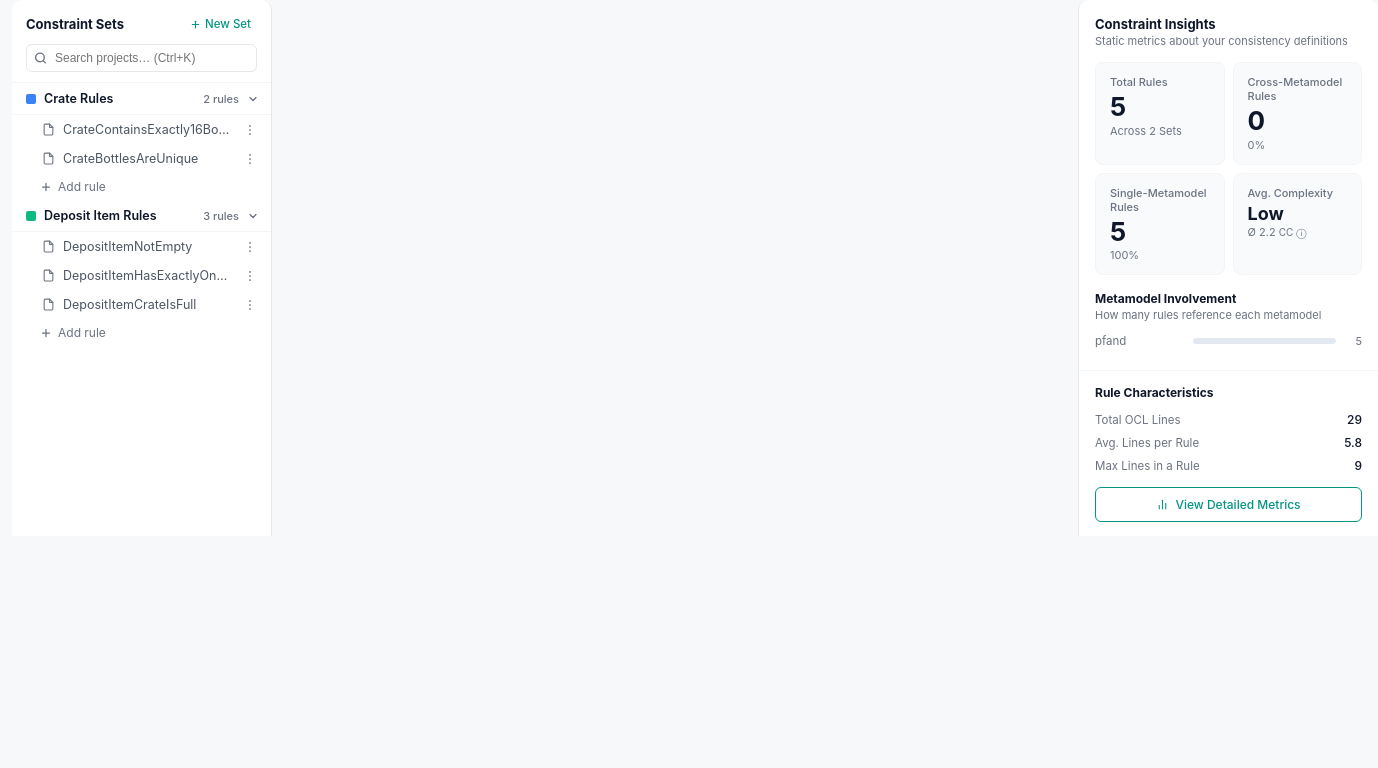
it: ConstraintsView › editor panel close › closes editor panel when × button is clicked
What coordinates should you click on to do the following:
click the button "CrateContainsExactly16Bottles"
I would click on:
 (142, 130)
Its box is [14,115,271,144].
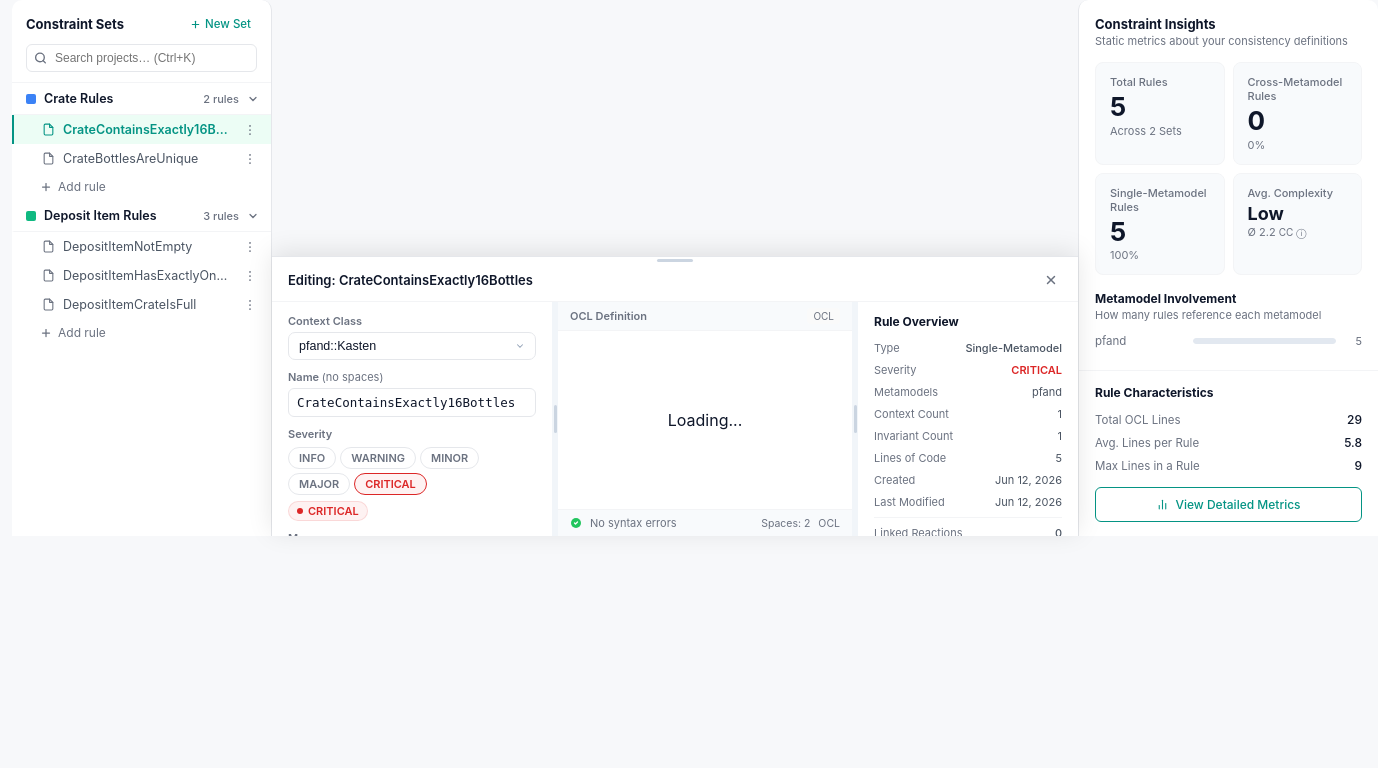
Expected: the text "Editing: CrateContainsExactly16Bottles" is shown, [288,272,533,288]
What coordinates should you click on to do the following:
click the button without text in the row of "Editing:"
I would click on:
 (1051, 280)
Its box is [1040,269,1062,291].
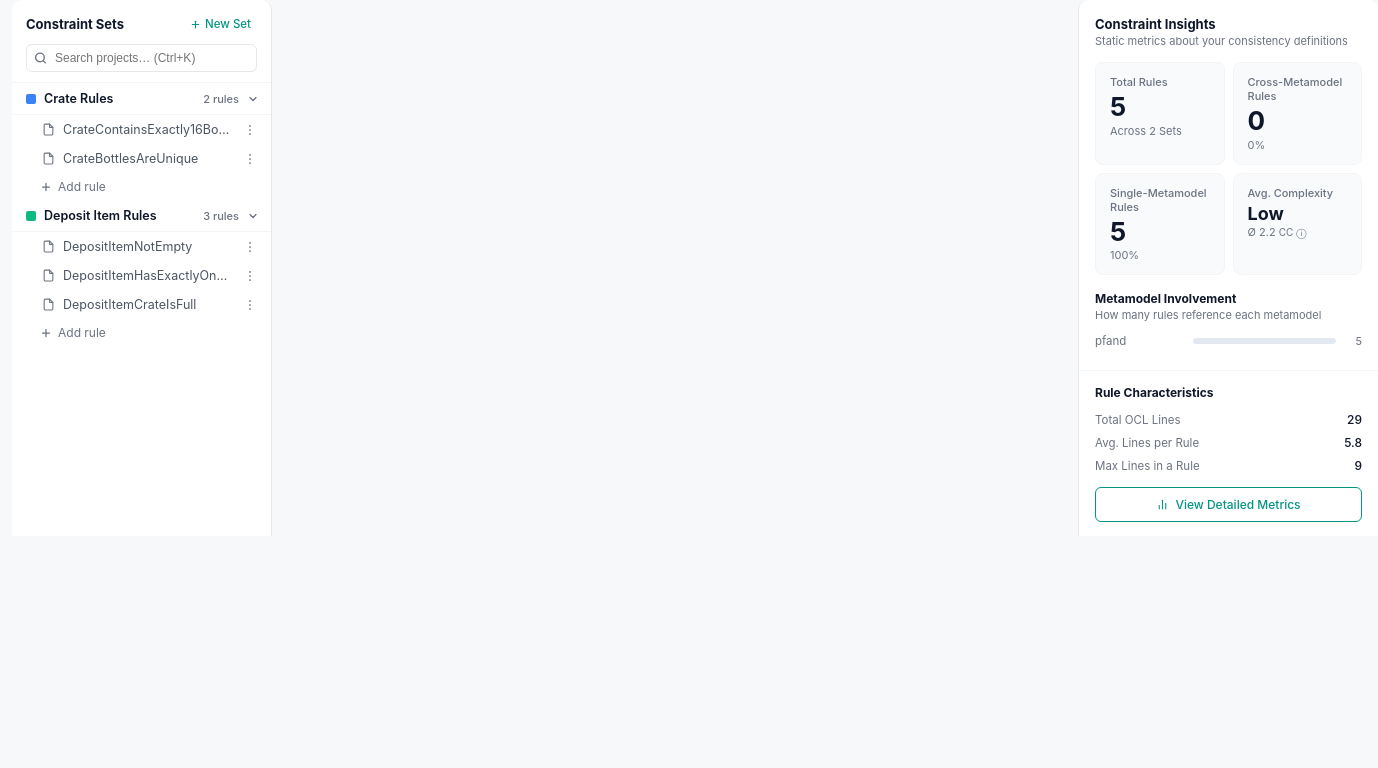
Expected: the text "Editing:" is gone
